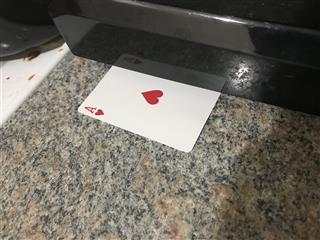AceOfHearts: (77, 65, 221, 153)
